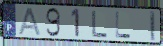1: (70, 8, 82, 39)
9: (45, 7, 62, 38)
A: (17, 6, 42, 37)
I: (149, 10, 157, 42)
L: (115, 11, 133, 40), (91, 10, 109, 39)
